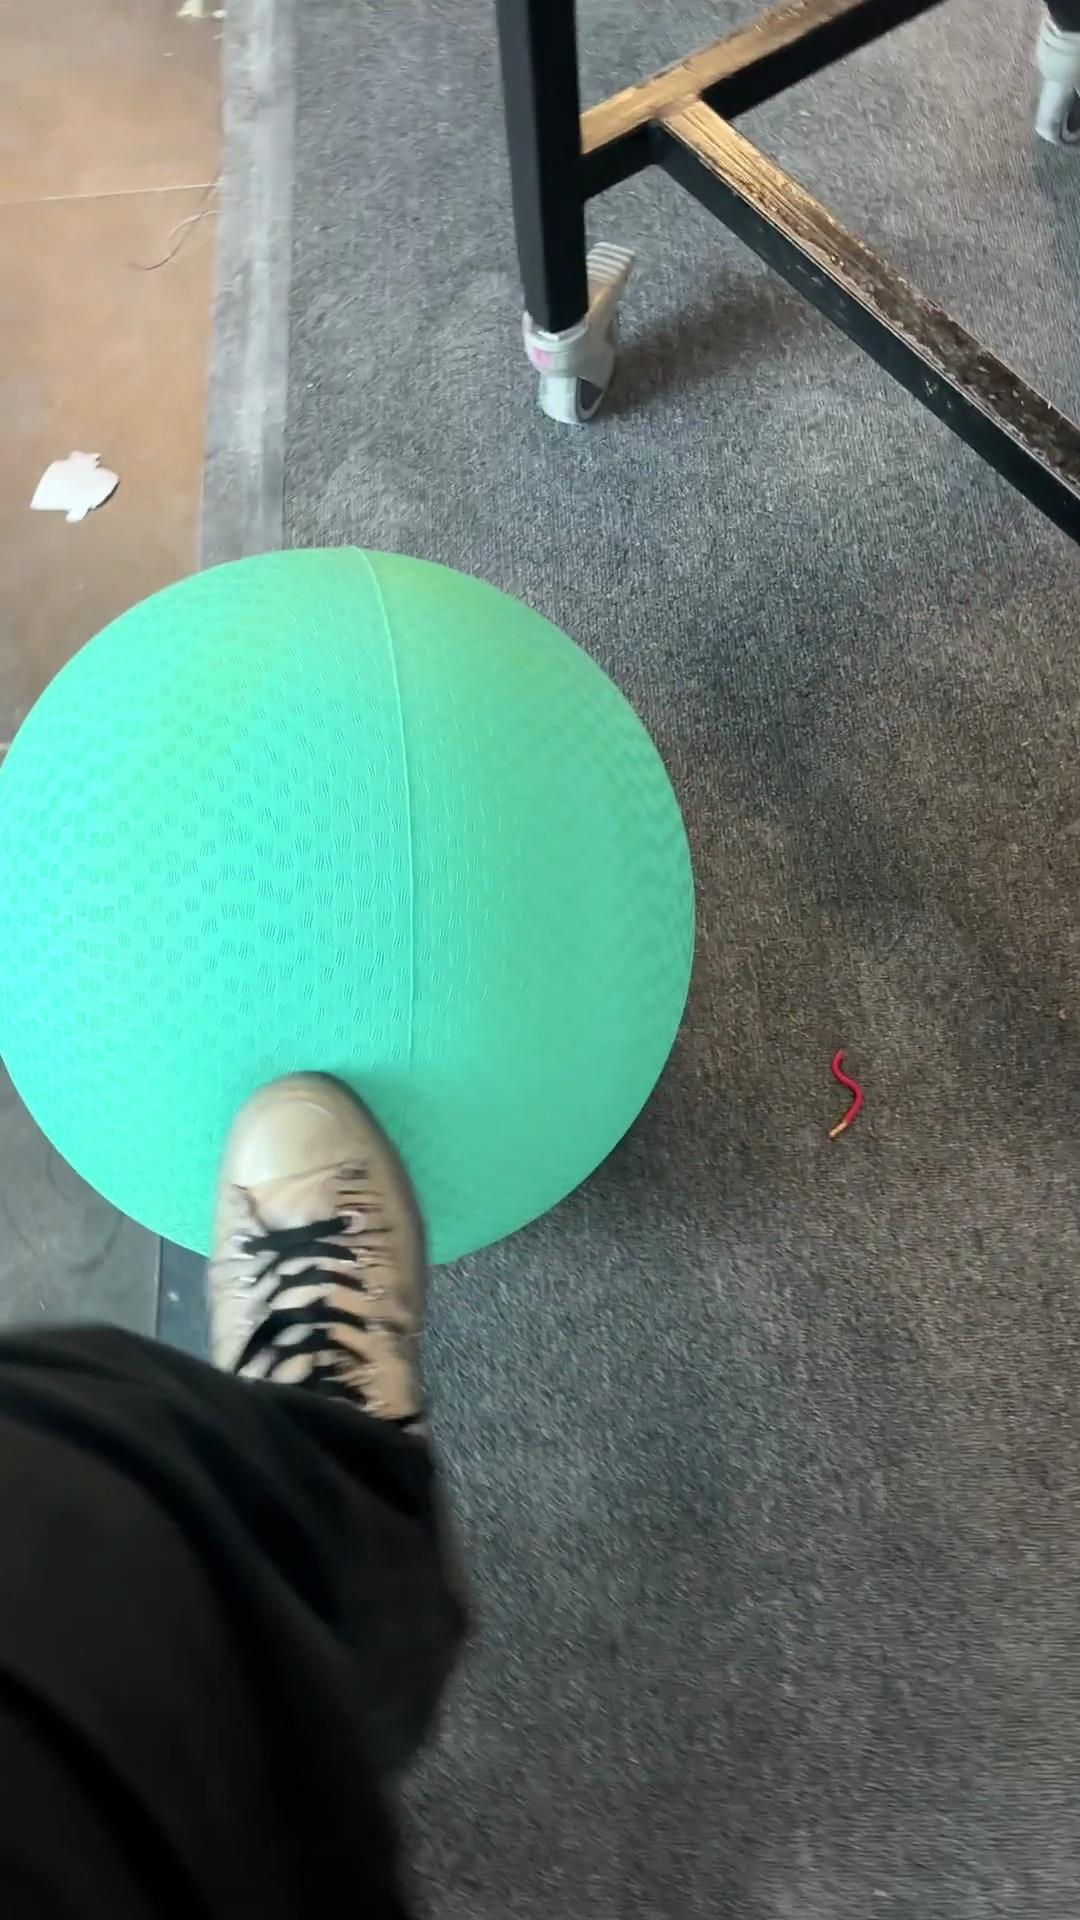ALGAE: (1, 542, 698, 1269)
